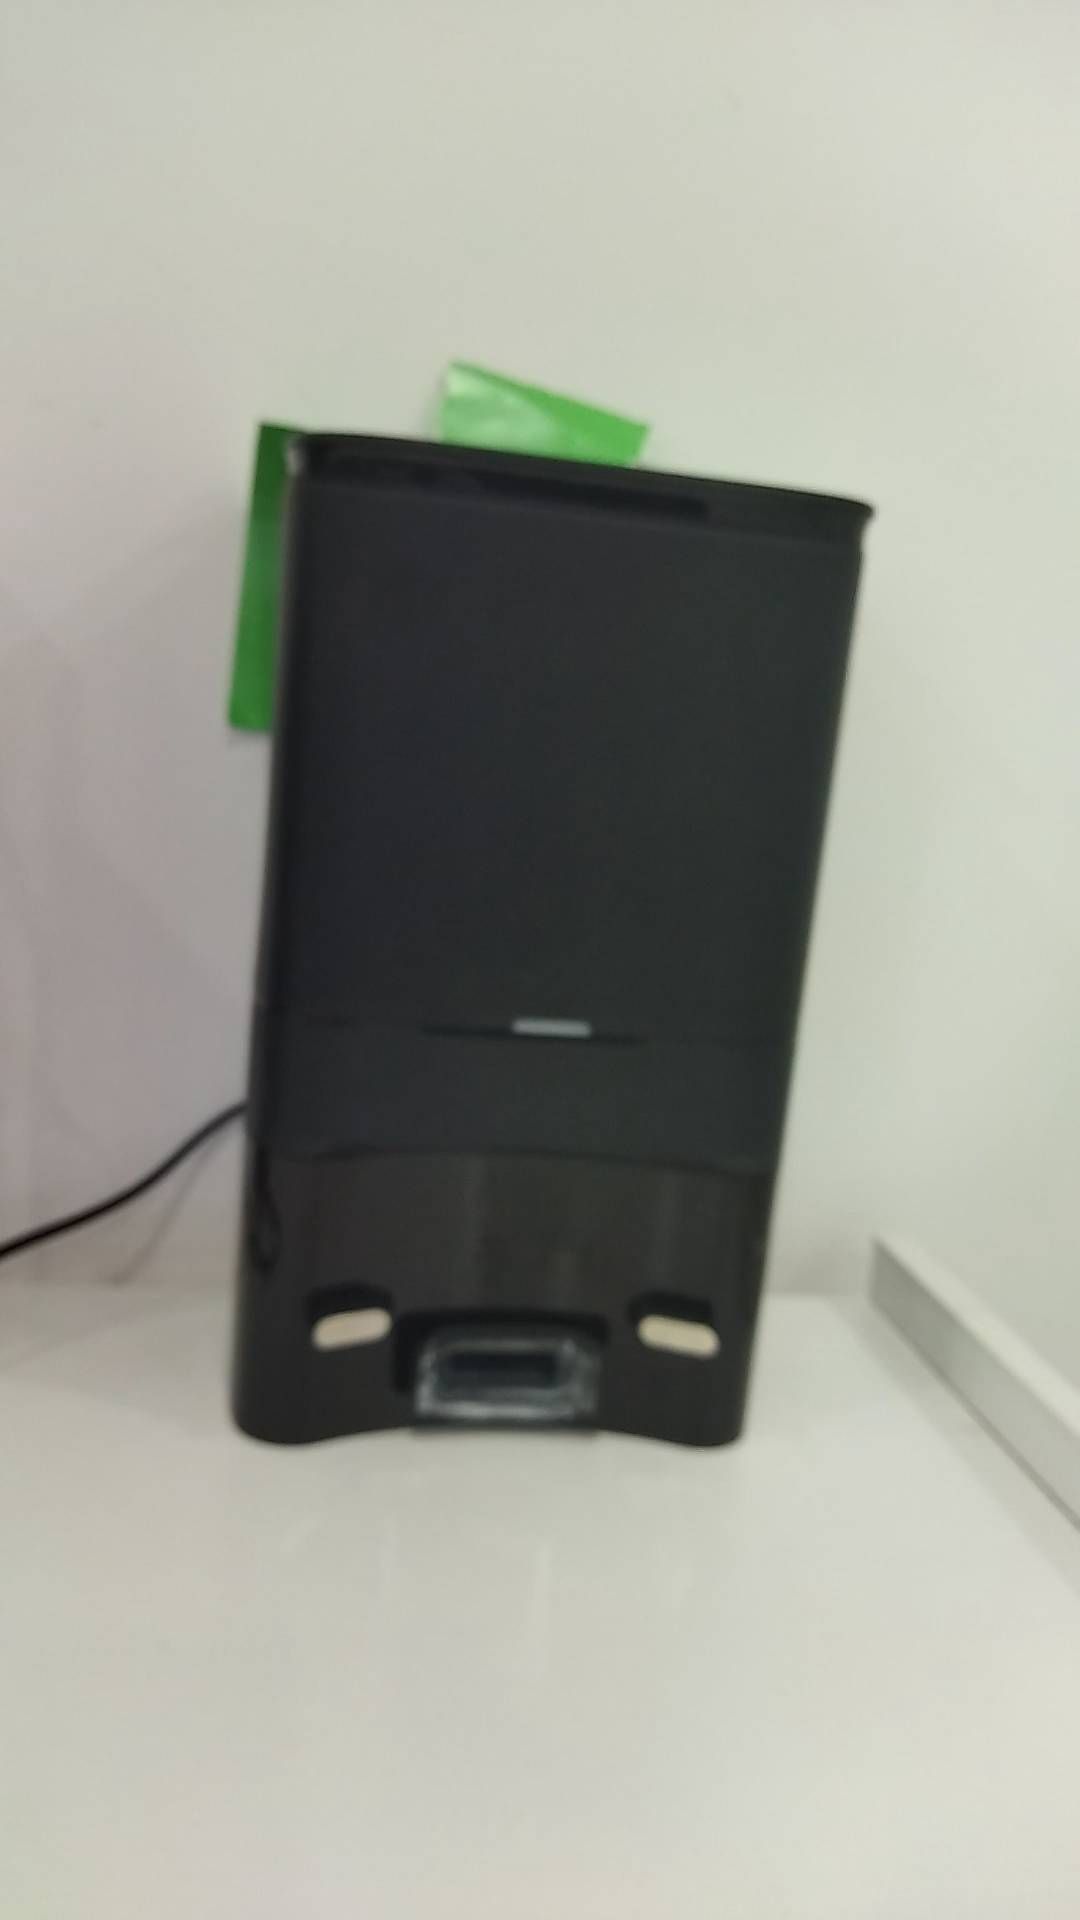dust collecting barrel: (225, 429, 876, 1456)
